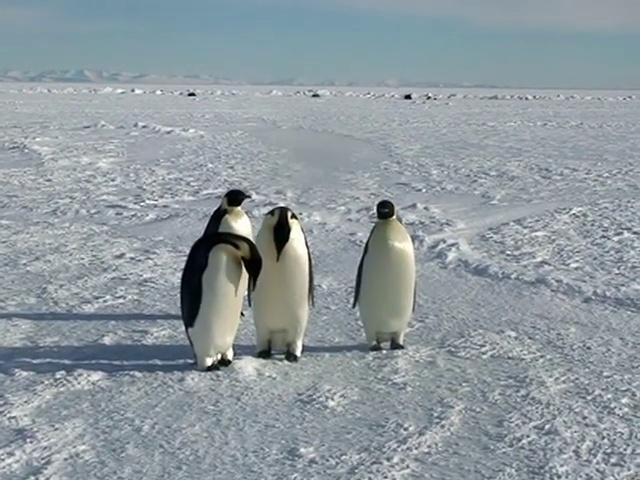animal: (354, 201, 416, 352)
